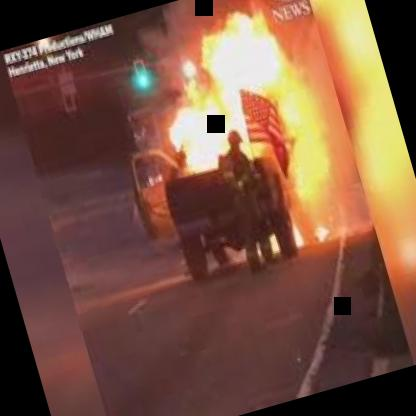fire: (104, 0, 350, 302)
